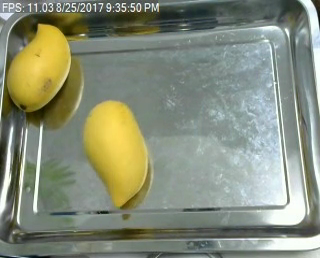Mango: (79, 99, 156, 211), (6, 17, 78, 115)
